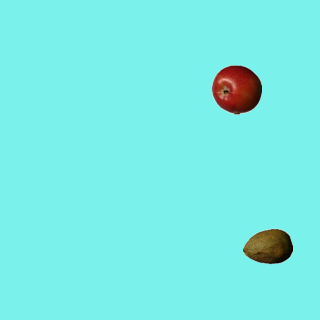Apple Braeburn: (211, 64, 261, 114)
Papaya: (242, 221, 292, 271)
